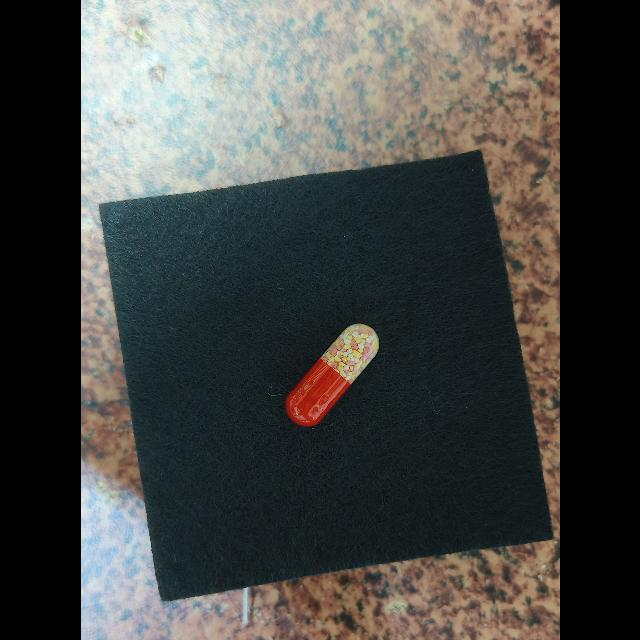Intact Capsule: (285, 323, 379, 427)
